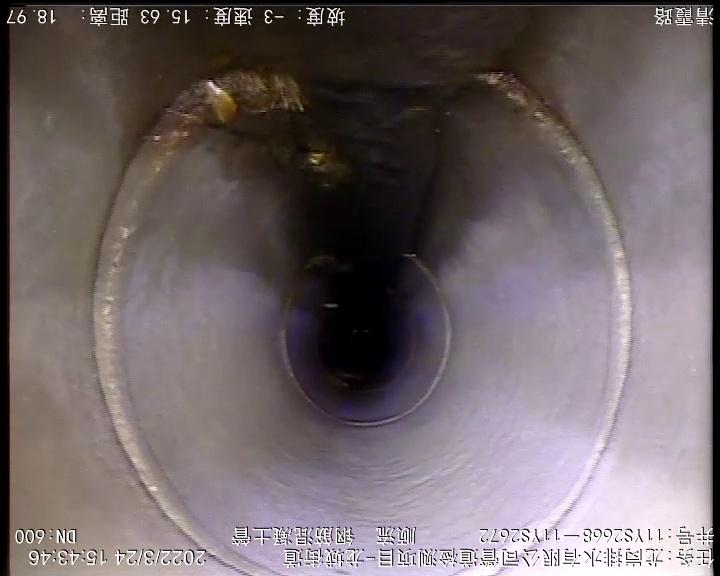CKTJ: (93, 73, 278, 576), (476, 73, 633, 528), (283, 253, 453, 427)
